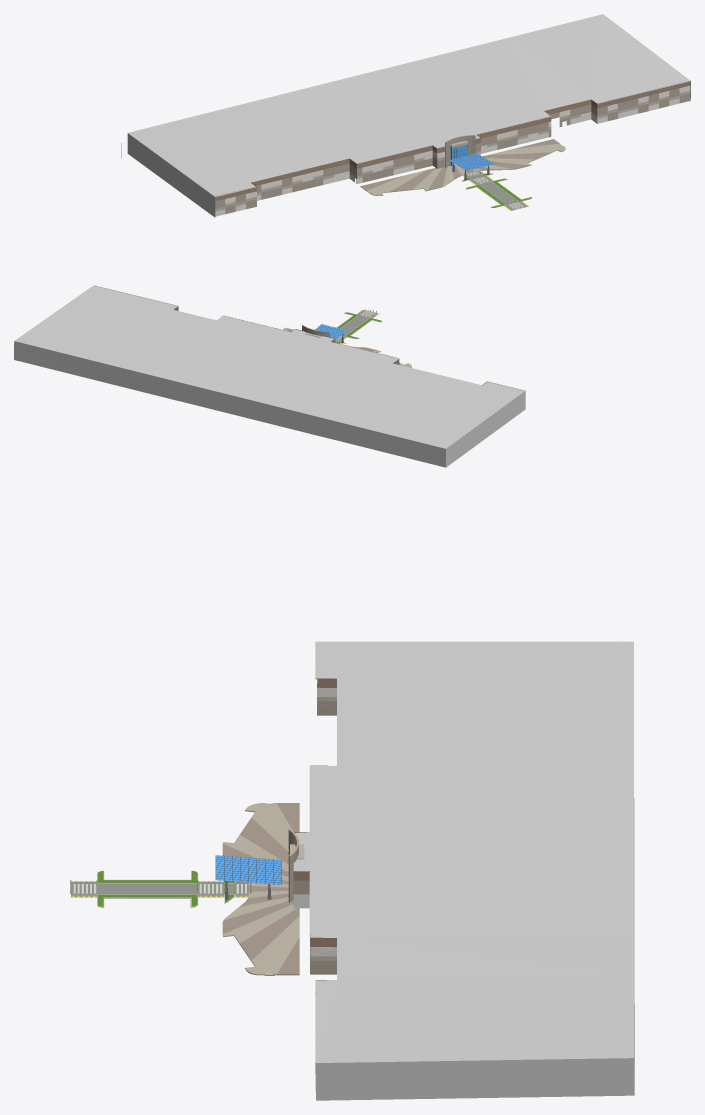
Rendered from garanhuns.obj.
The picture shows the model from 3 angles, top to bottom: view 1: azimuth 30°, elevation 25°; view 2: azimuth 150°, elevation 25°; view 3: azimuth 270°, elevation 25°; orthographic projection. The views are drawn at different scales.
Visible parts, largest first — view 1: Plane.001, Mesh5398.001, Mesh2851.001, Mesh6510.001, Plane, Mesh6506.001, Mesh7824.001; view 2: Plane.001, Mesh6510.001, Mesh6506.001; view 3: Plane.001, Mesh2851.001, Mesh5398.001, Mesh6510.001, Plane, Mesh6506.001.
Boxes of the visible parts, x1=… form: Plane.001: x1=127, y1=14, x2=690, y2=217; Mesh5398.001: x1=215, y1=81, x2=690, y2=216; Mesh2851.001: x1=360, y1=139, x2=565, y2=195; Mesh6510.001: x1=462, y1=171, x2=528, y2=210; Plane: x1=449, y1=153, x2=494, y2=170; Mesh6506.001: x1=461, y1=173, x2=532, y2=207; Mesh7824.001: x1=445, y1=135, x2=475, y2=168; Plane.001: x1=14, y1=285, x2=525, y2=467; Mesh6510.001: x1=335, y1=310, x2=378, y2=342; Mesh6506.001: x1=336, y1=312, x2=381, y2=343; Plane.001: x1=293, y1=641, x2=634, y2=1100; Mesh2851.001: x1=222, y1=803, x2=299, y2=975; Mesh5398.001: x1=293, y1=678, x2=336, y2=1055; Mesh6510.001: x1=71, y1=881, x2=248, y2=897; Plane: x1=215, y1=855, x2=281, y2=884; Mesh6506.001: x1=97, y1=870, x2=234, y2=907.
Bounding box in the file's own units: 323 × 12.23 × 130.
